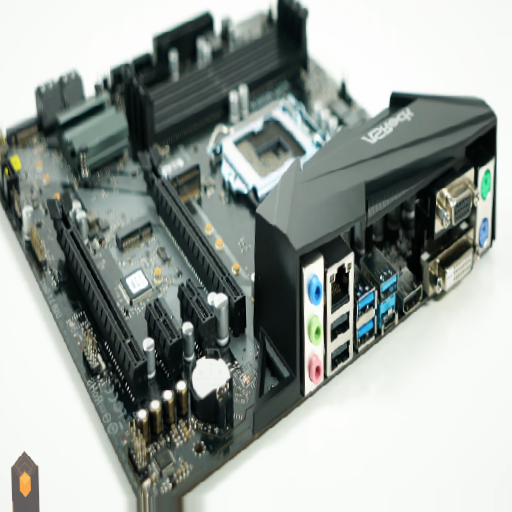CPU: (217, 96, 331, 199)
GPU: (44, 191, 149, 388), (137, 144, 246, 329)
MOTHERBOARD: (5, 7, 496, 490)
RAM: (127, 2, 307, 149)
SSD: (114, 218, 154, 251), (168, 162, 200, 193)
